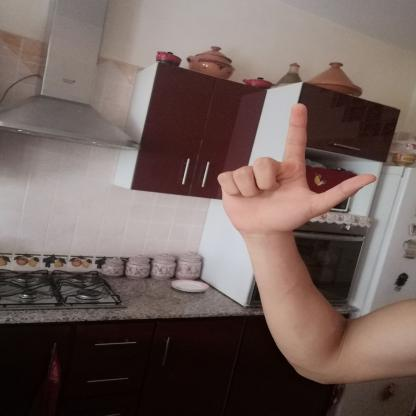LAAM: (206, 96, 386, 243)
